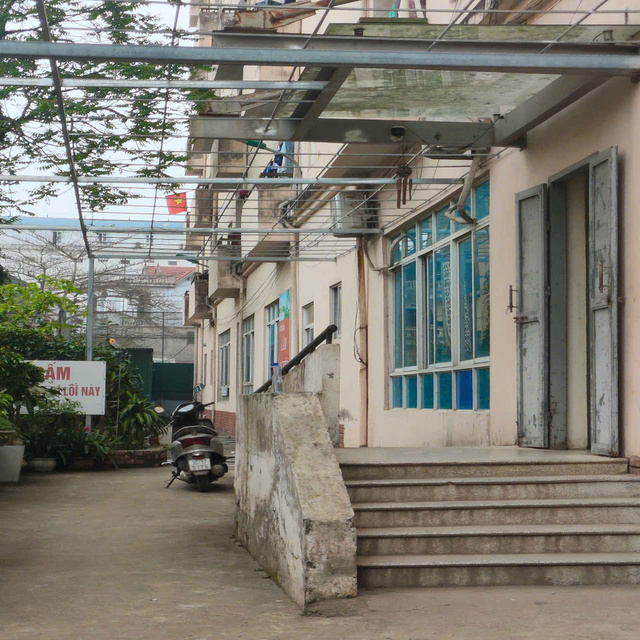laco: (161, 187, 194, 222)
